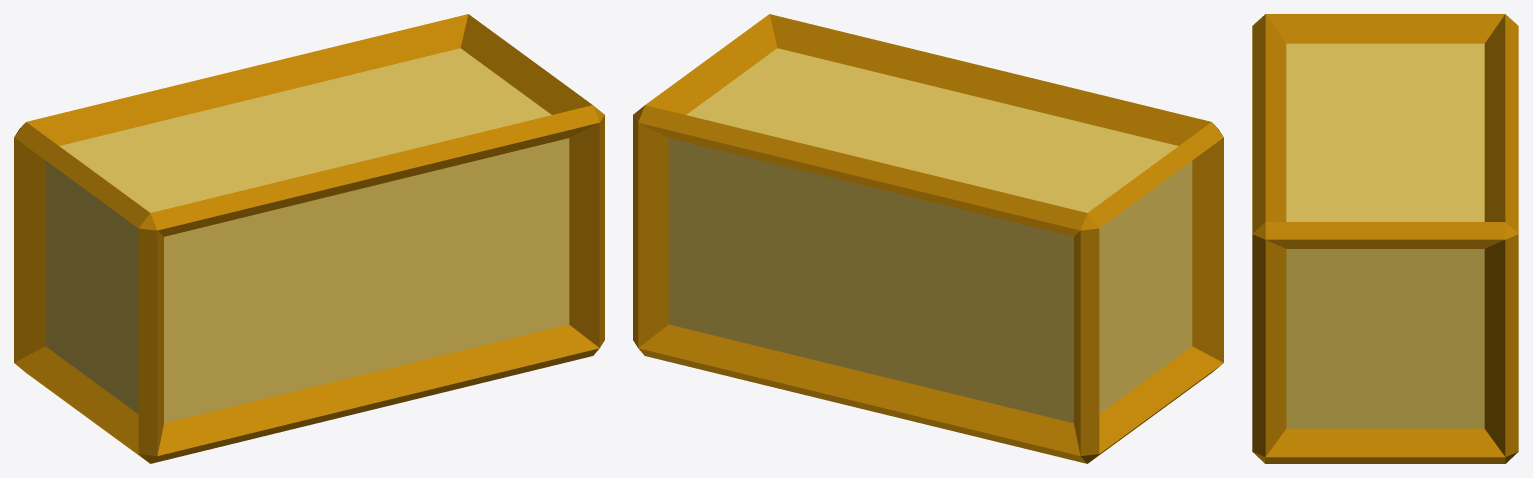
Rendered from CajaLarga.fbx.
The picture shows the model from 3 angles, left to right: view 1: azimuth 30°, elevation 25°; view 2: azimuth 150°, elevation 25°; view 3: azimuth 270°, elevation 25°; orthographic projection. The views are drawn at different scales.
Visible parts, largest first — view 1: caja:pCube6; view 2: caja:pCube6; view 3: caja:pCube6.
Part boxes in pixels (bbox=[...]): caja:pCube6: bbox=[14, 14, 604, 463]; caja:pCube6: bbox=[633, 14, 1223, 463]; caja:pCube6: bbox=[1252, 14, 1518, 463].
Bounding box in the file's own units: 3174 × 1631 × 1630.
